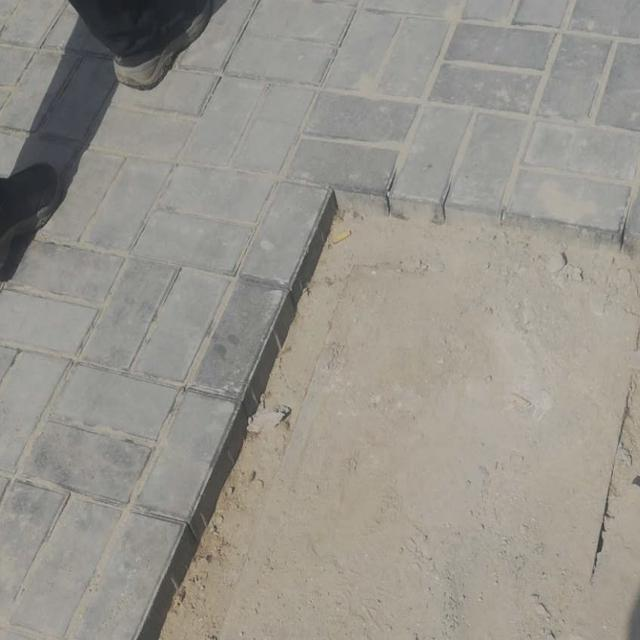circle: (72, 220, 640, 640)
